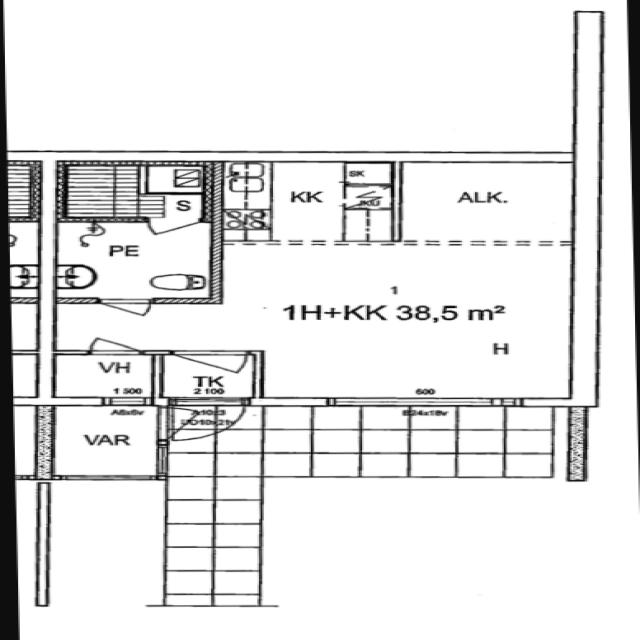door: (159, 400, 239, 444), (143, 213, 210, 237), (82, 334, 146, 358), (95, 296, 157, 319)
window: (50, 472, 164, 484)
zone: (214, 160, 398, 246), (46, 217, 219, 304), (9, 403, 167, 480), (48, 352, 159, 404), (155, 346, 263, 399)
